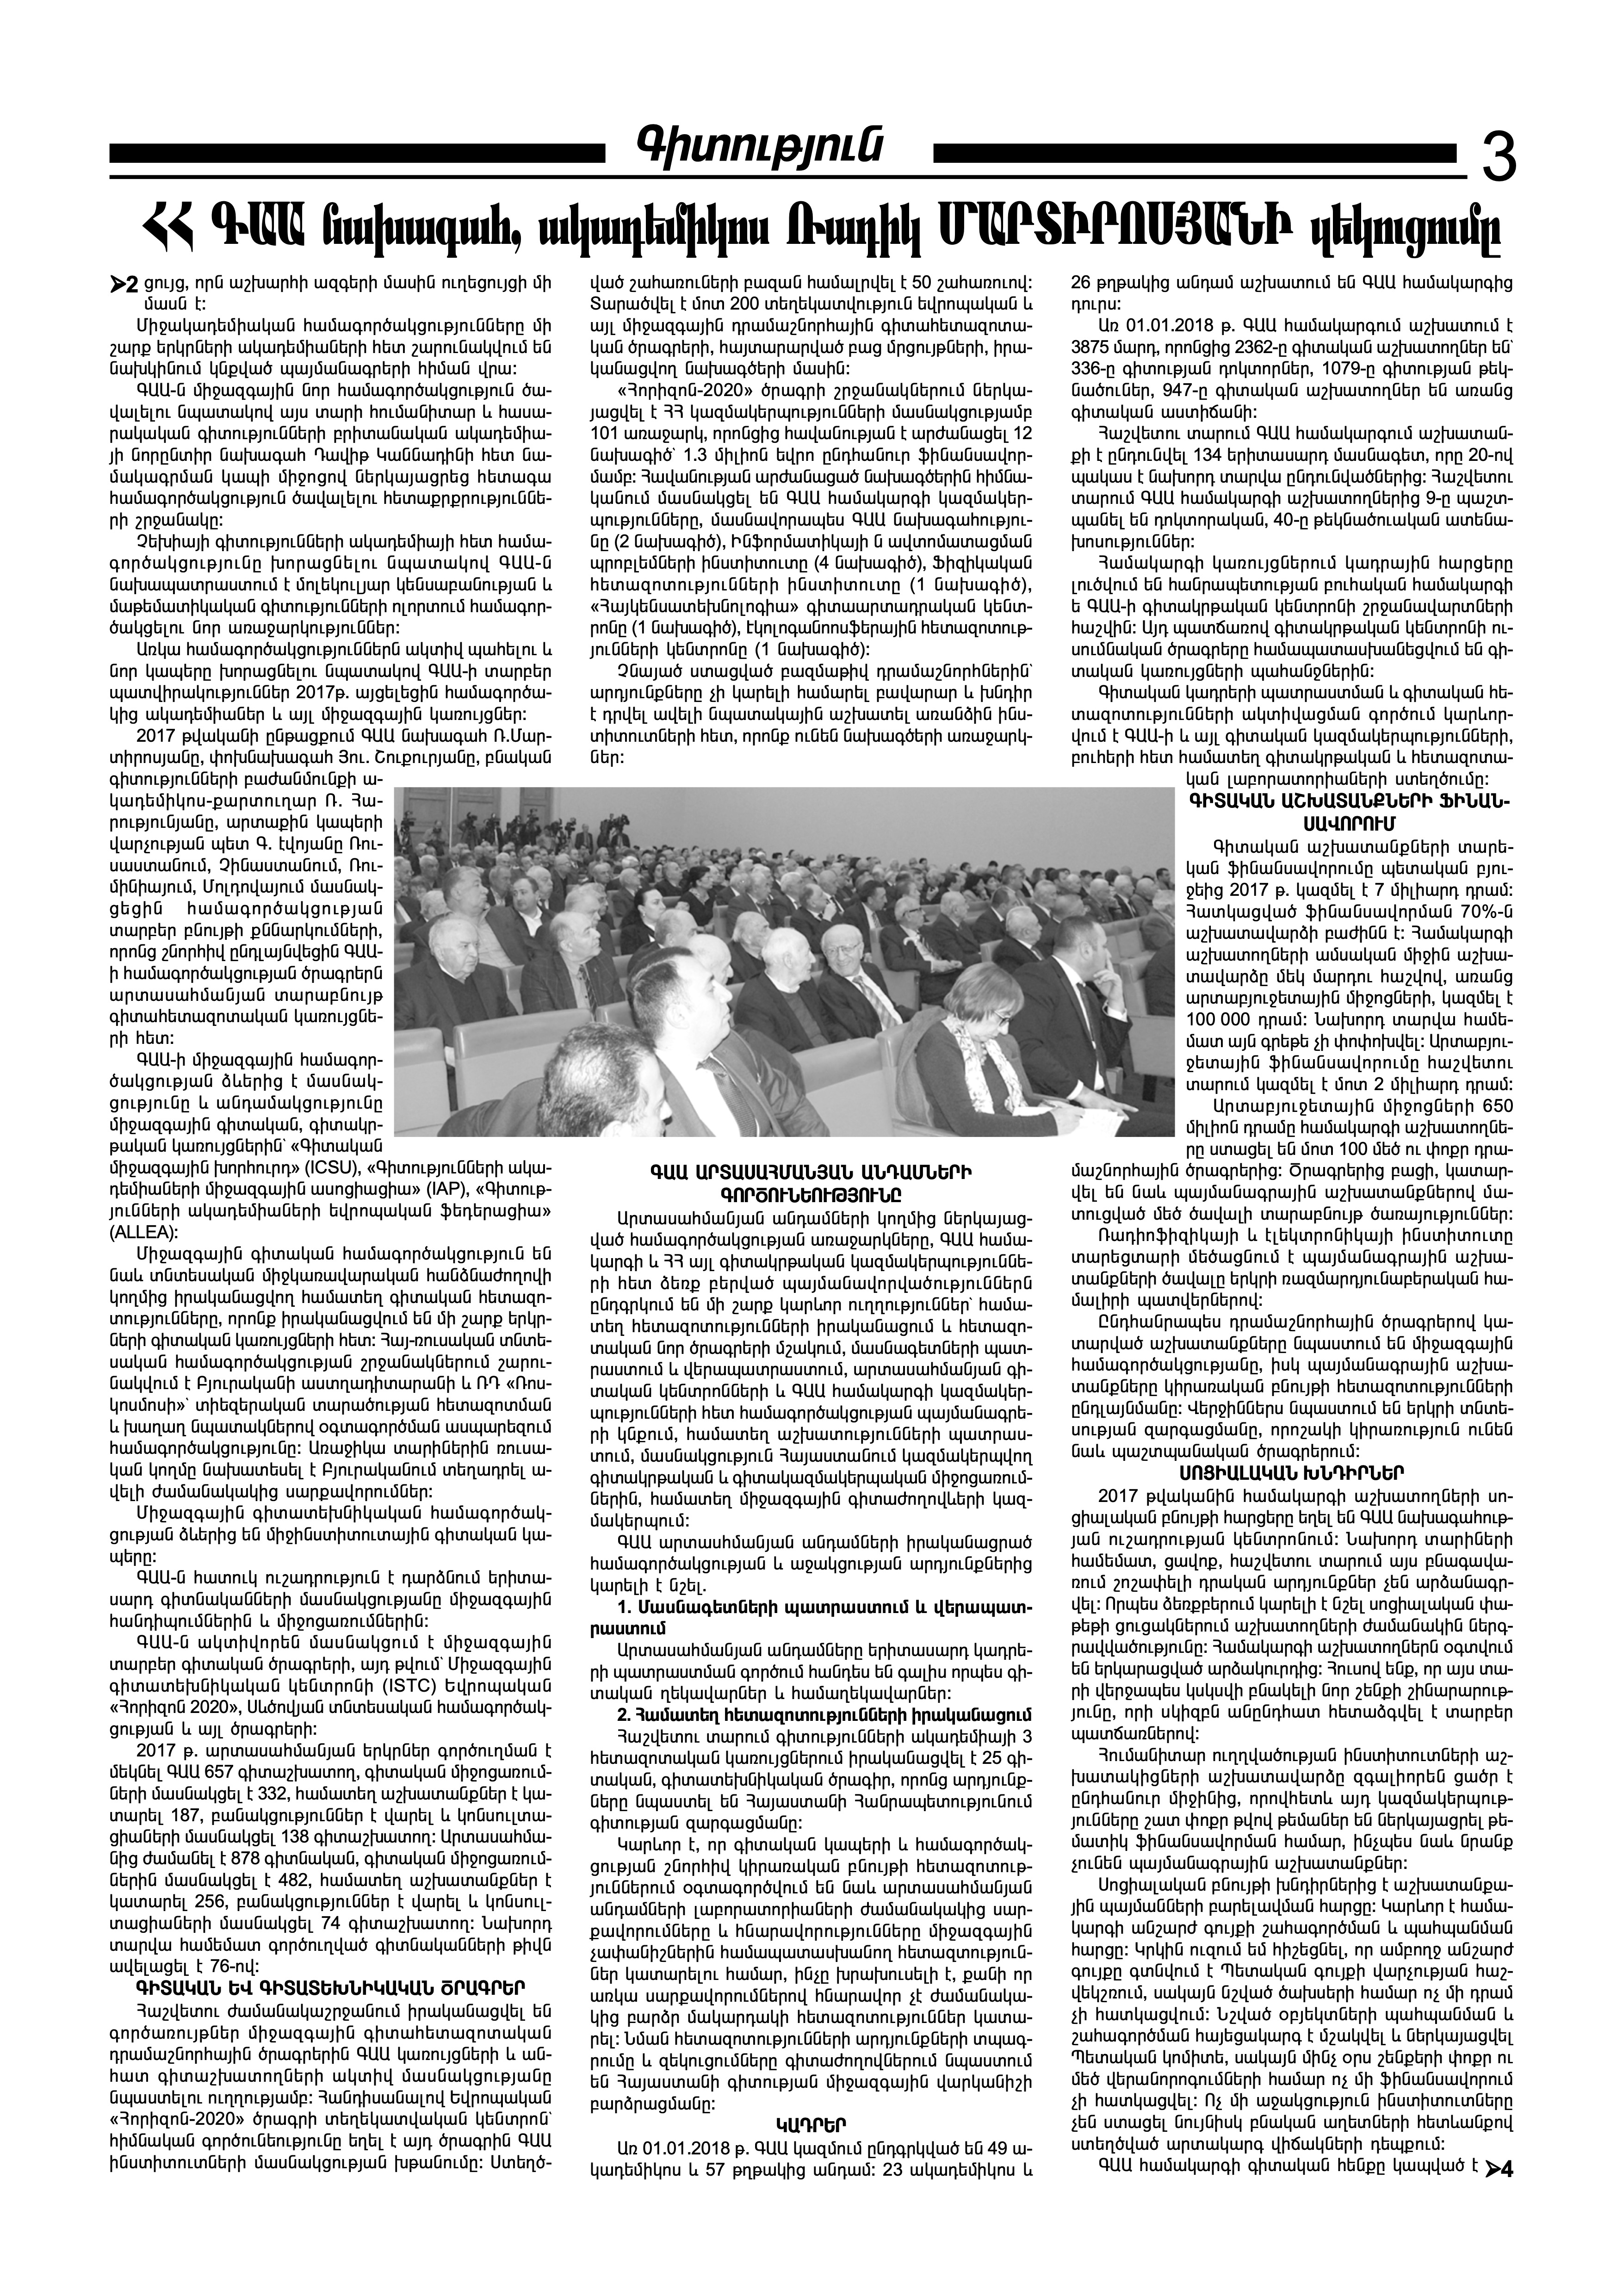table: (385, 776, 1194, 1144)
